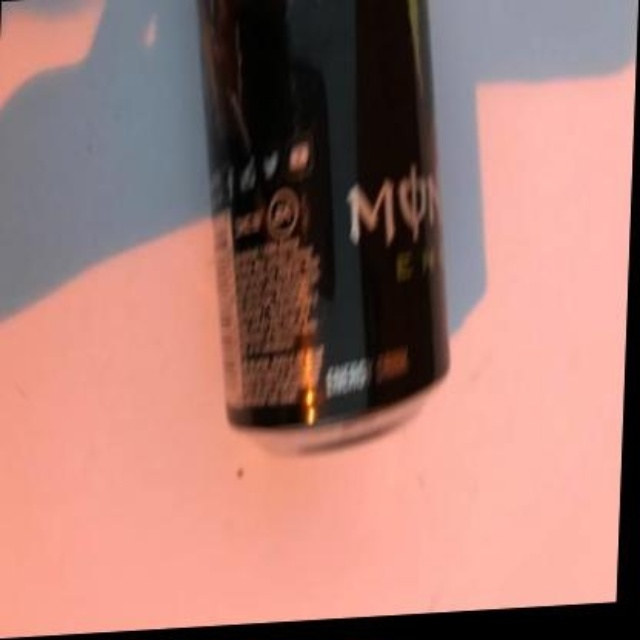trash: (200, 0, 446, 443)
